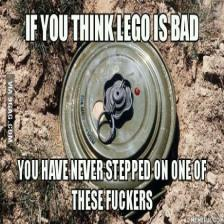TM-46: (63, 44, 184, 160)
